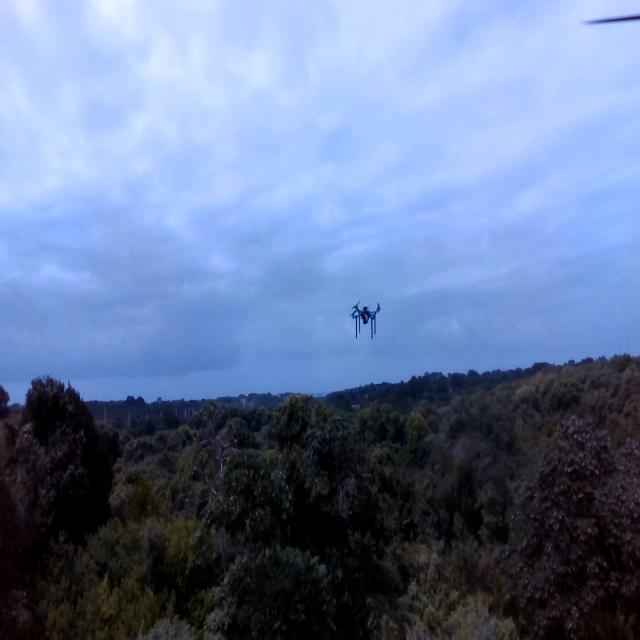-uav-: (347, 291, 385, 351)
